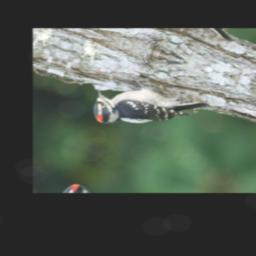Woodpecker: (85, 68, 214, 153)
